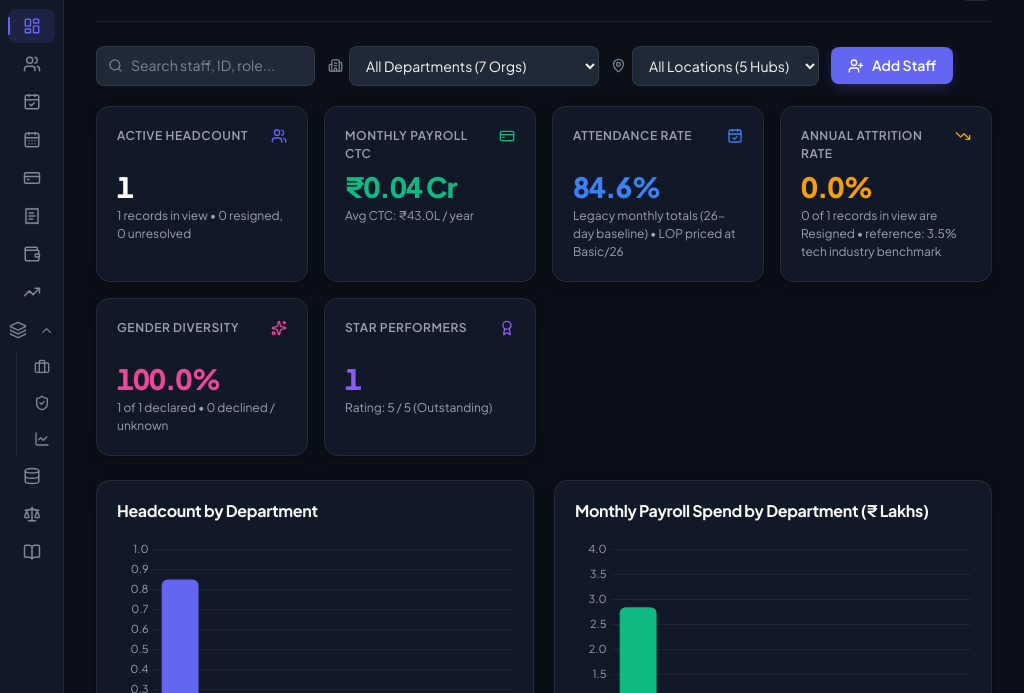
Scenario: Finance Report navigation and App wiring › sits after Payslip Designer, titles the page, shows no toolbar and reads the full register
Step 1. Click the button named "Employee Directory" → x=32, y=64, box [8,47,55,81]
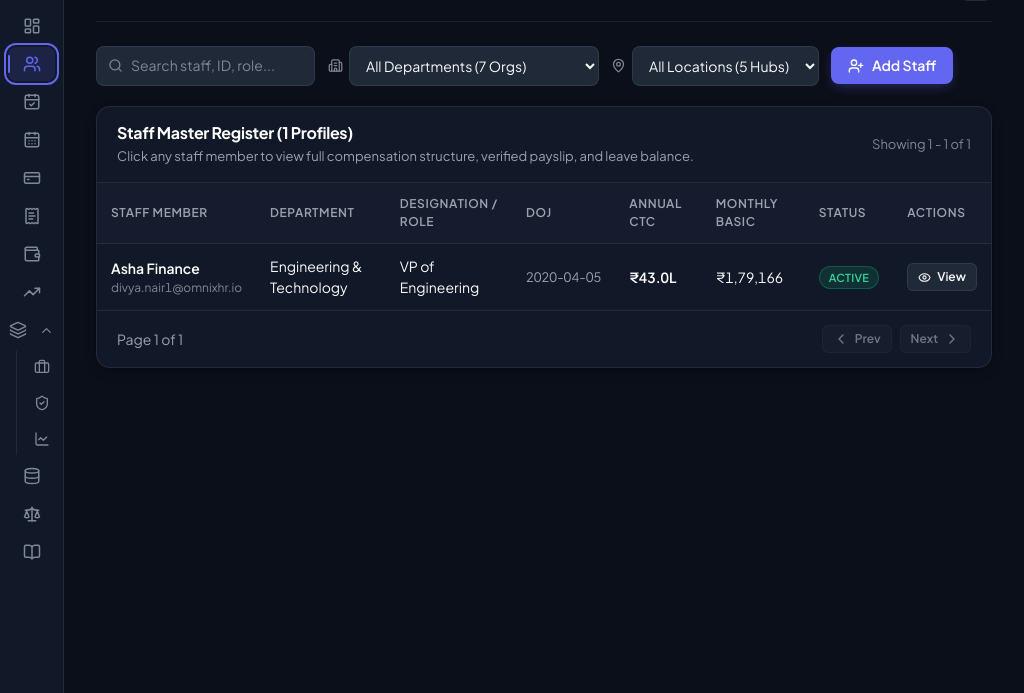
Step 2. Type "zzz-no-such-person" into the field named "Search staff, ID or role" → x=206, y=66, box [96,46,315,86]
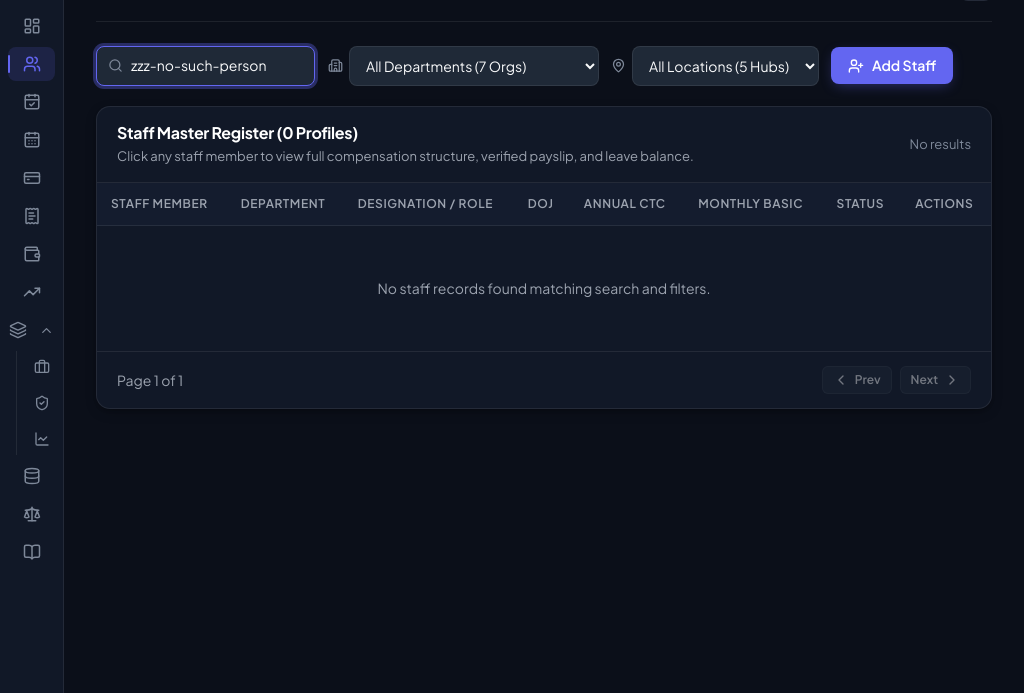
Step 3. Click the button named "Finance Report" → x=32, y=254, box [8,237,55,271]
(page scrolled)
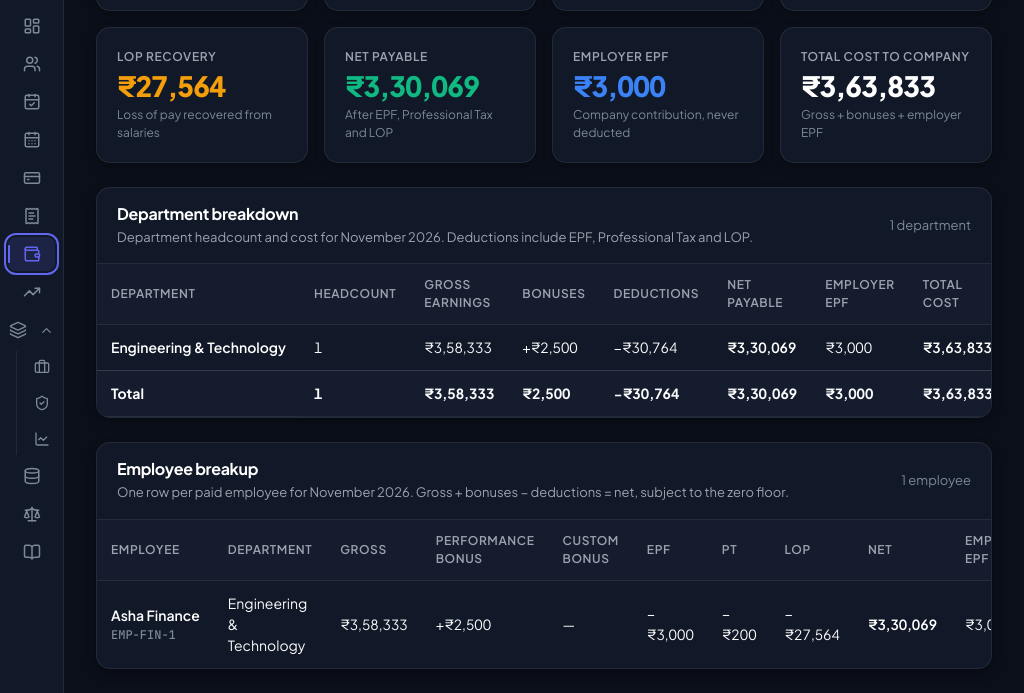
Expected: the text "Asha Finance" is shown, [111,606,200,624]
